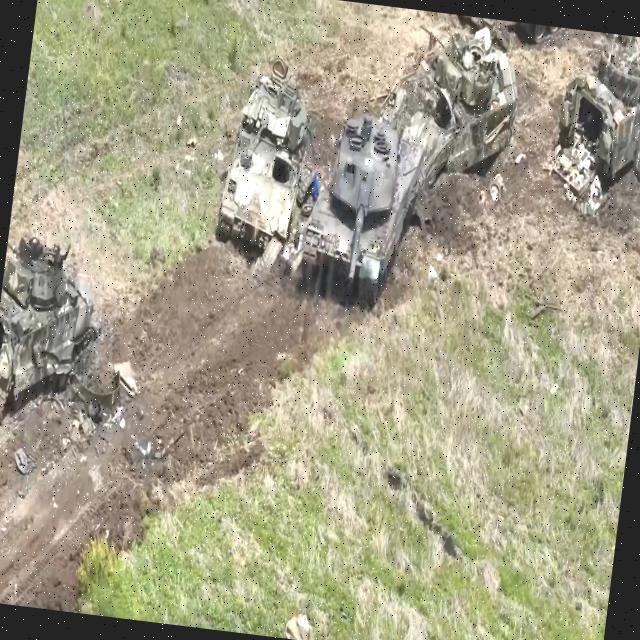AIFV: (371, 16, 528, 186), (214, 53, 320, 272), (1, 236, 104, 439), (550, 33, 640, 202)
MBT: (299, 110, 429, 294)
